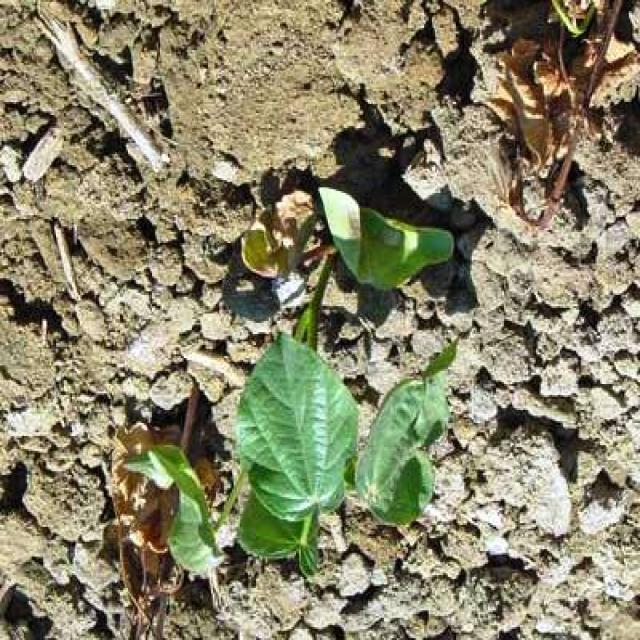Fusarium Wilt: (101, 5, 612, 602)
